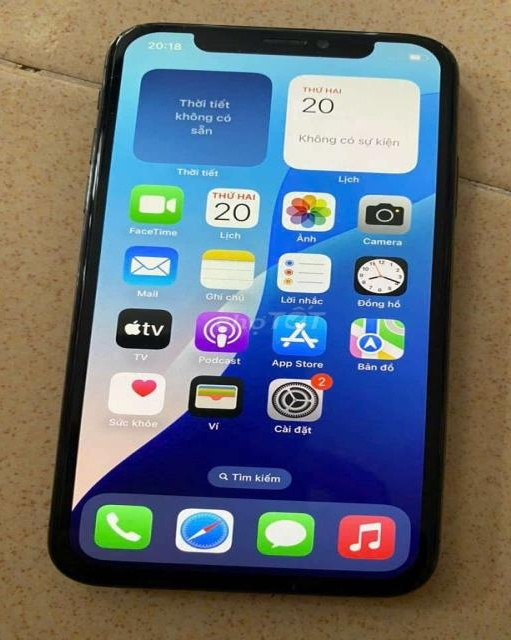scratch: (434, 40, 453, 54)
